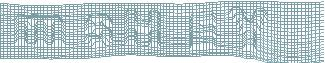E: (188, 11, 219, 50)
H: (123, 8, 163, 49)
Y: (228, 6, 269, 53)
m: (13, 13, 67, 49)
s: (82, 12, 115, 49)
